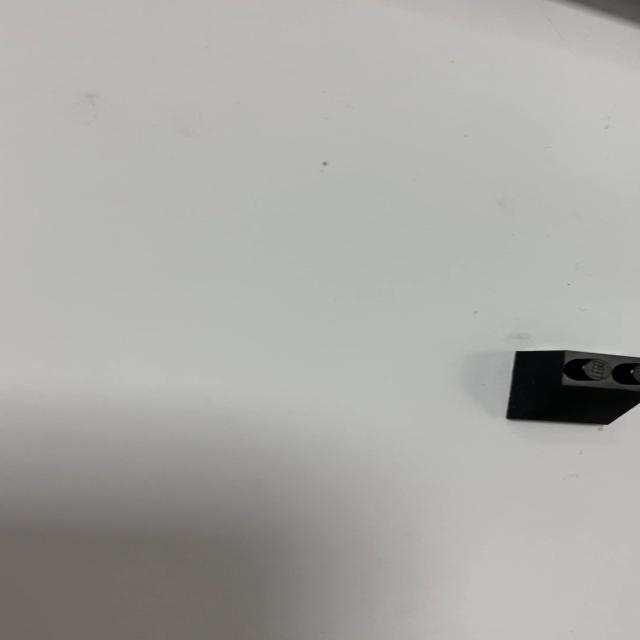P2x2x1: (504, 348, 638, 426)
